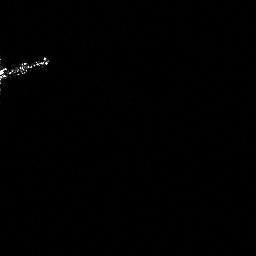ship: (1, 56, 51, 87)
